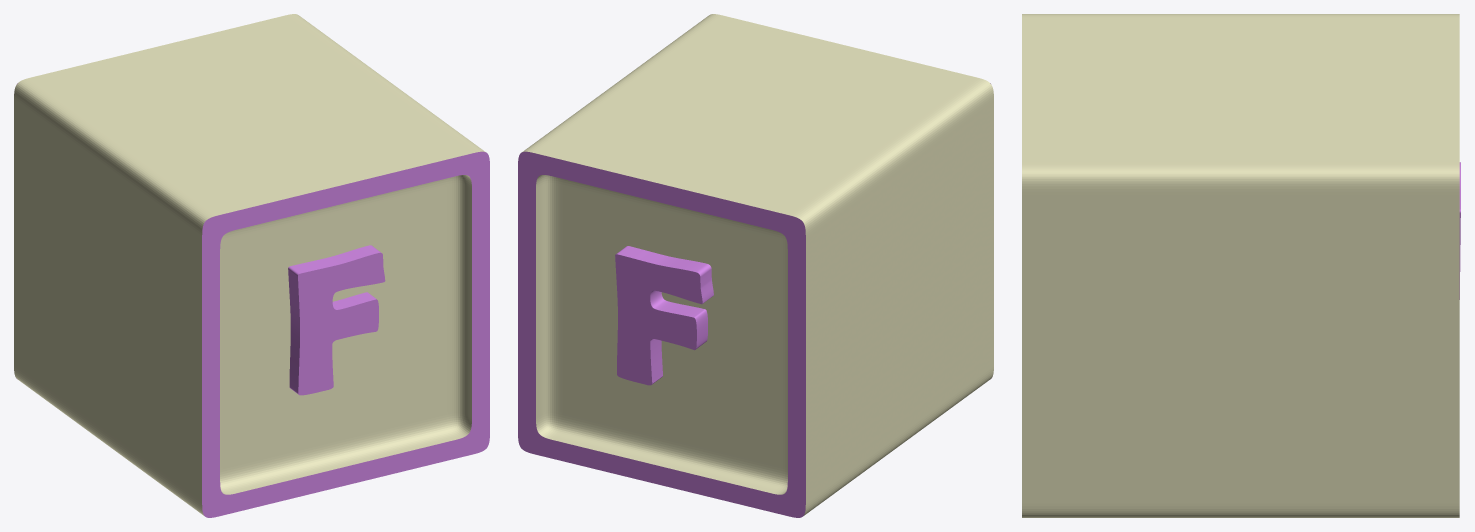
Rendered from letterfblock.fbx.
3 views of the same model, side by side, from view 1: azimuth 30°, elevation 25°; view 2: azimuth 150°, elevation 25°; view 3: azimuth 270°, elevation 25° (orthographic). The views are drawn at different scales.
Visible parts, largest first — view 1: Cube, Cube.002, Text; view 2: Cube, Cube.001, Text.001; view 3: Cube.
Boxes of the visible parts, box(x1,y1,x2,y2) form: Cube: box(14, 14, 485, 515); Cube.002: box(202, 151, 489, 517); Text: box(288, 245, 385, 395); Cube: box(522, 14, 993, 515); Cube.001: box(518, 151, 805, 517); Text.001: box(615, 246, 713, 385); Cube: box(1022, 14, 1459, 517).
Bounding box in the file's own units: 1196 × 1196 × 1359.
